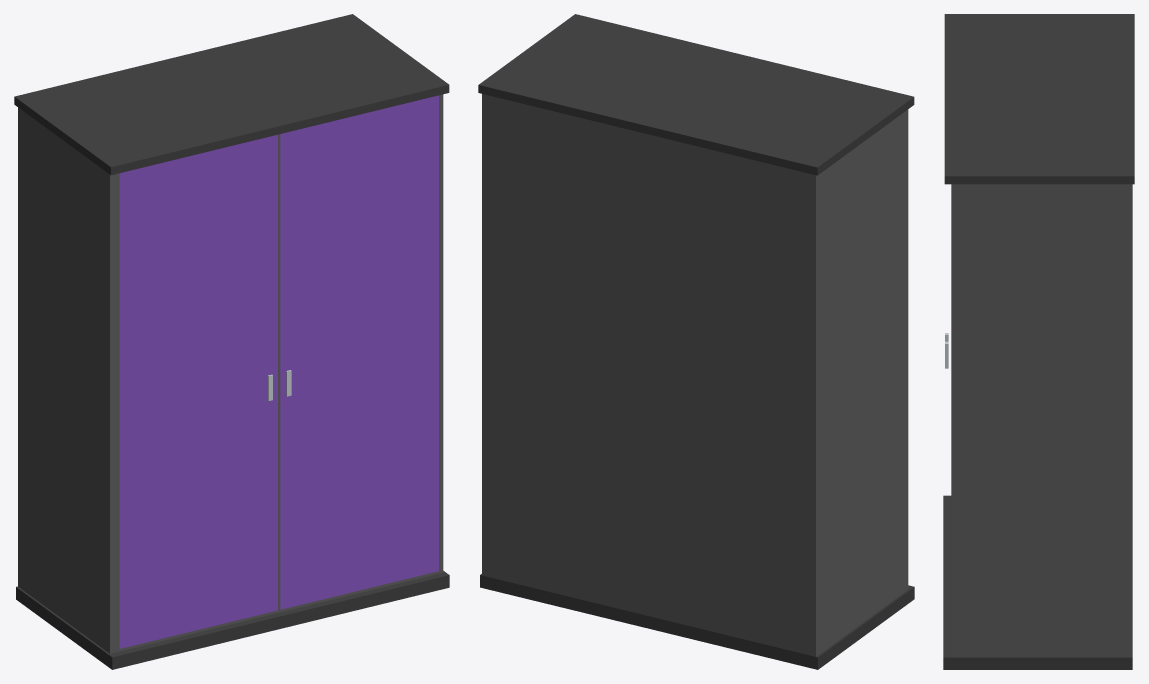
The model's file is closet_015.glb.
The picture shows the model from 3 angles, left to right: view 1: azimuth 30°, elevation 25°; view 2: azimuth 150°, elevation 25°; view 3: azimuth 270°, elevation 25°; orthographic projection.
Visible parts, largest first — view 1: closet_015; view 2: closet_015; view 3: closet_015.
Boxes of the visible parts, x1,y1,x2,y2 form: closet_015: [14, 14, 449, 669]; closet_015: [478, 14, 914, 669]; closet_015: [943, 14, 1134, 669].
Bounding box in the file's own units: 1.25 × 1.78 × 0.6249.
Materials: 1 (1 with a texture image).
